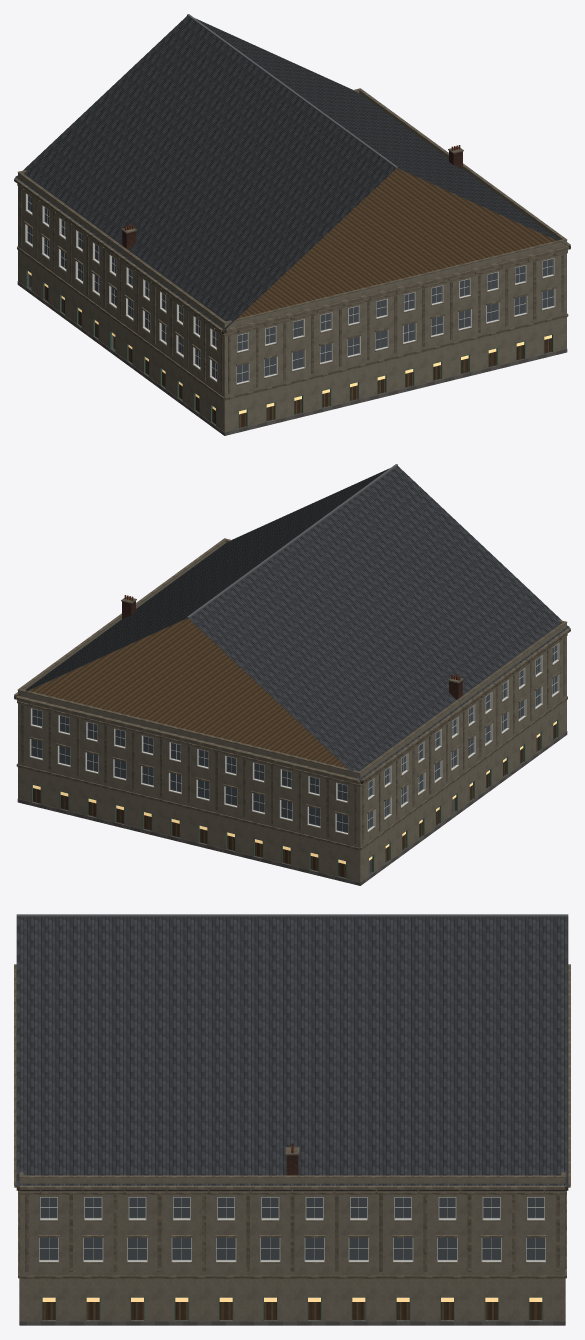
Rendered from A_terminal.glb.
3 views of the same model, one above another, from view 1: azimuth 30°, elevation 25°; view 2: azimuth 150°, elevation 25°; view 3: azimuth 270°, elevation 25° (orthographic). The views are drawn at different scales.
Visible parts, largest first — view 1: A_terminal; view 2: A_terminal; view 3: A_terminal.
Part boxes in pixels (bbox=[...]): A_terminal: bbox=[14, 14, 570, 435]; A_terminal: bbox=[14, 464, 570, 885]; A_terminal: bbox=[14, 914, 570, 1325].
Size of the model in its own units: 44.98 by 27.95 by 46.98.
Materials: 15 (8 with a texture image).
